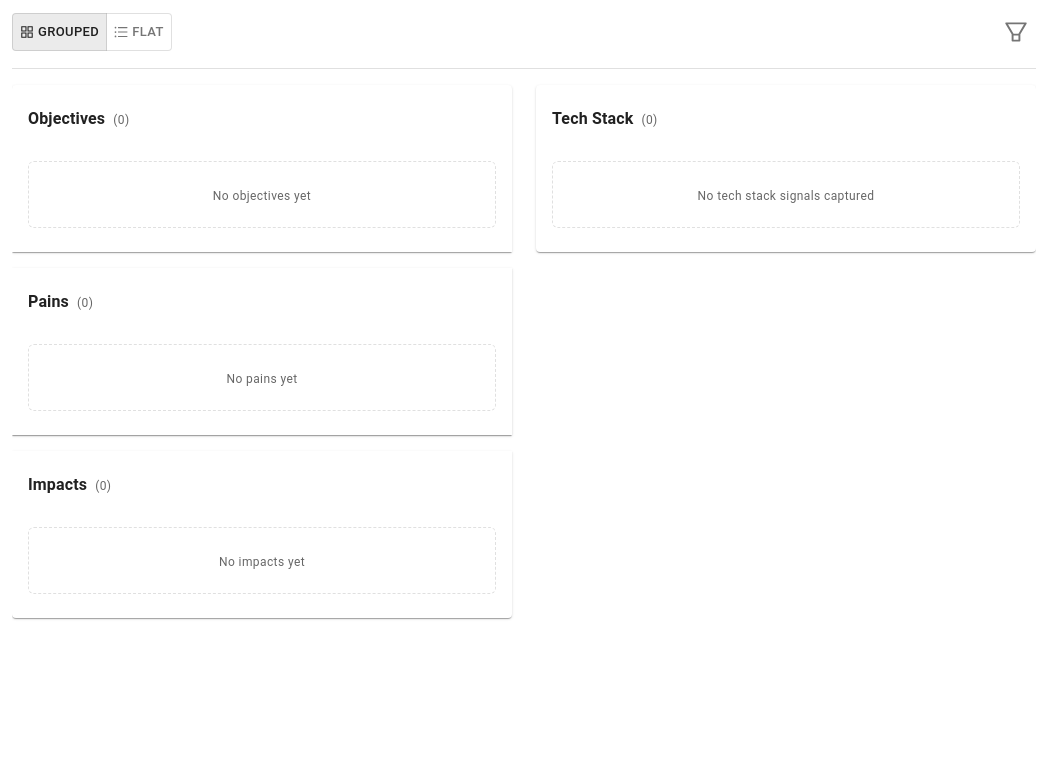
Test: AccountSignalsTab — aggregated flat list › blanks to the red error surface only when there is nothing to show
What coordinates should you click on to do the following:
click the button with aria-label "flat view"
I would click on:
 (139, 32)
Its box is [106,13,172,51].
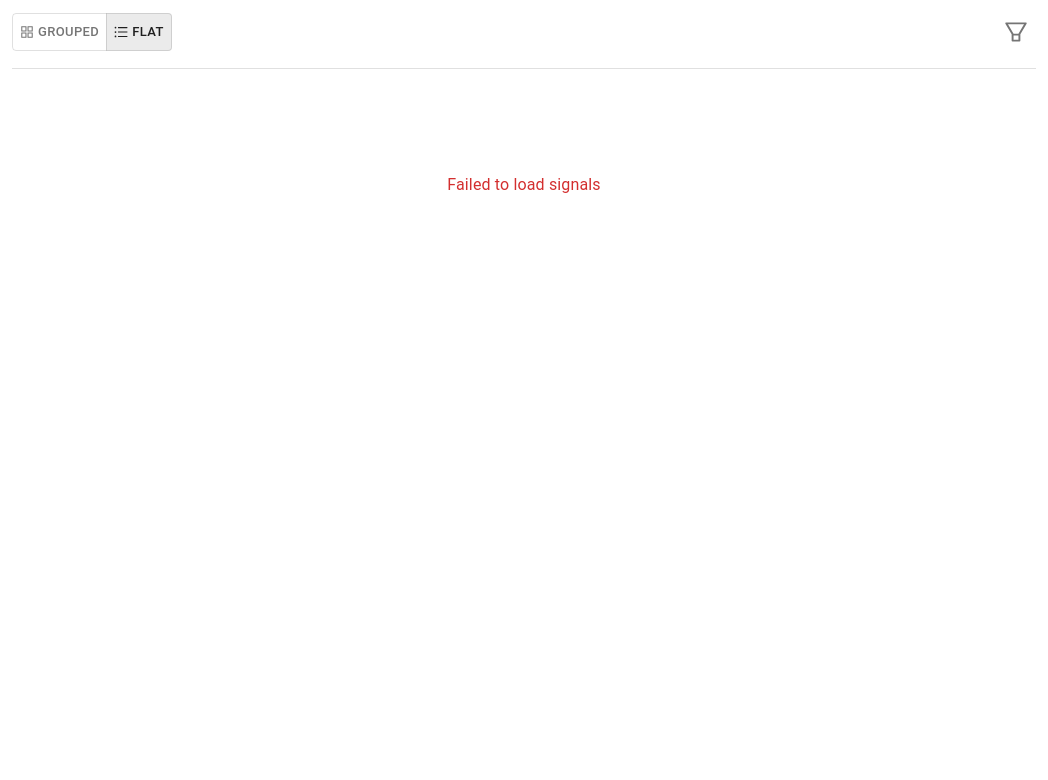
Now the text "Failed to load signals" is shown, box [447,173,601,197]
